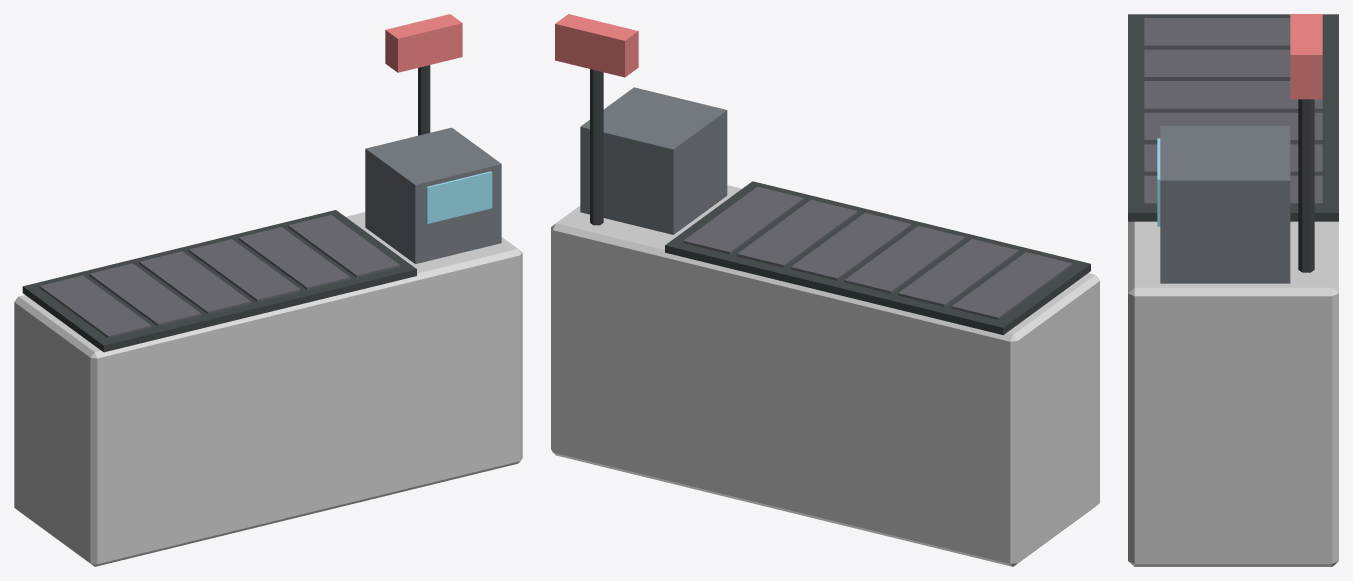
File: shop-checkout.glb
The picture shows the model from 3 angles, left to right: view 1: azimuth 30°, elevation 25°; view 2: azimuth 150°, elevation 25°; view 3: azimuth 270°, elevation 25°; orthographic projection. The views are drawn at different scales.
Visible parts, largest first — view 1: shop-checkout; view 2: shop-checkout; view 3: shop-checkout.
Boxes of the visible parts, left/top/right/bottom form: shop-checkout: left=14, top=14, right=522, bottom=566; shop-checkout: left=551, top=14, right=1099, bottom=566; shop-checkout: left=1128, top=14, right=1338, bottom=566.
Bounding box in the file's own units: 2 × 1.75 × 0.65.
